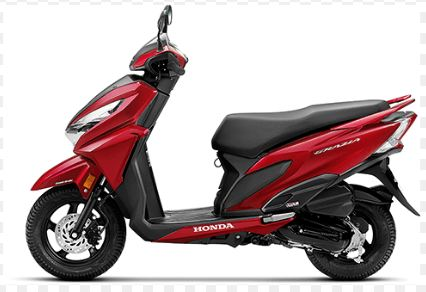bike: (24, 6, 421, 278)
